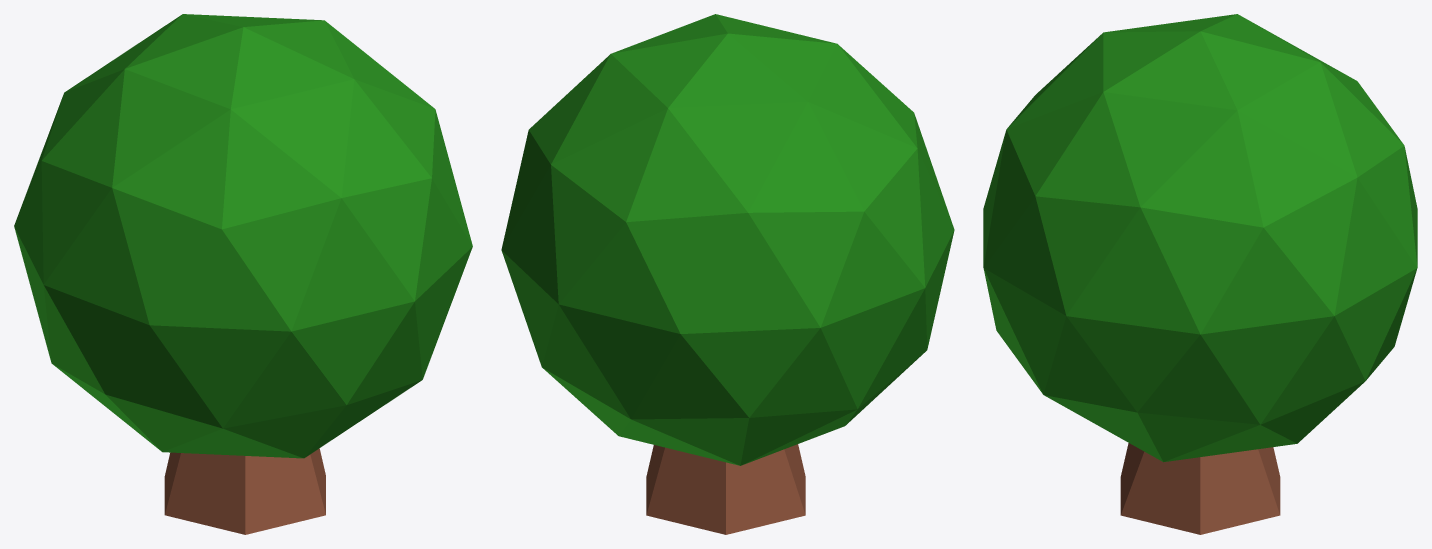
File: summer_bush1.glb
3 views of the same model, side by side, from view 1: azimuth 30°, elevation 25°; view 2: azimuth 150°, elevation 25°; view 3: azimuth 270°, elevation 25° (orthographic).
Parts seen in each view (by area): view 1: Bush_2_summer; view 2: Bush_2_summer; view 3: Bush_2_summer.
Boxes of the visible parts, box(x1,y1,x2,y2) form: Bush_2_summer: box(14, 14, 472, 534); Bush_2_summer: box(501, 14, 954, 534); Bush_2_summer: box(983, 14, 1417, 534).
Size of the model in its own units: 0.3519 by 0.3946 by 0.3347.
Materials: 1 (1 with a texture image).
